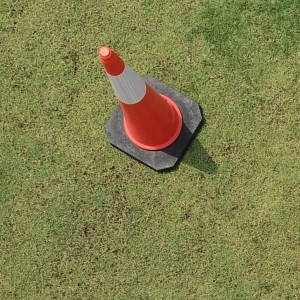traffic cone: (99, 46, 202, 171)
